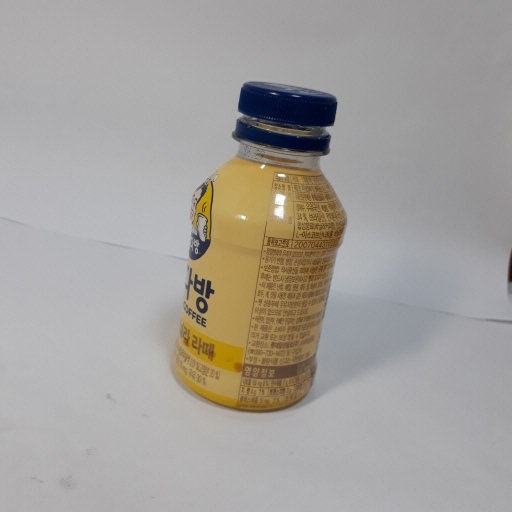Plastic_0: (168, 77, 349, 417)
